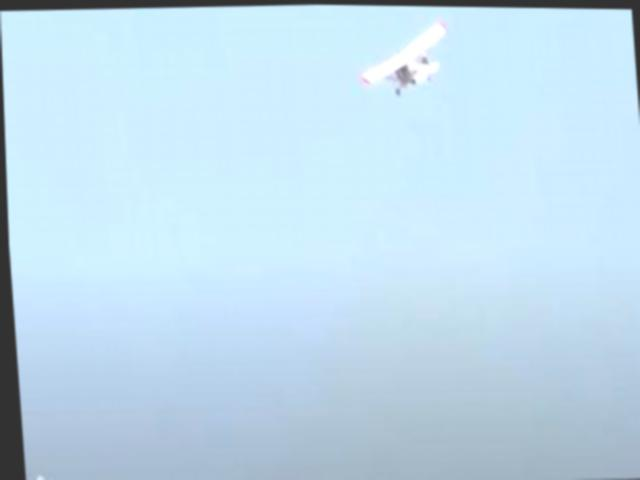uav: (353, 4, 457, 110)
